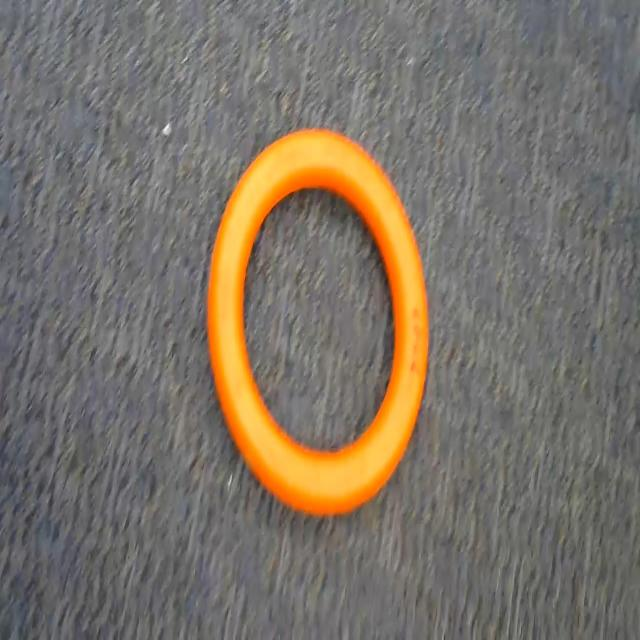note: (189, 118, 463, 554)
